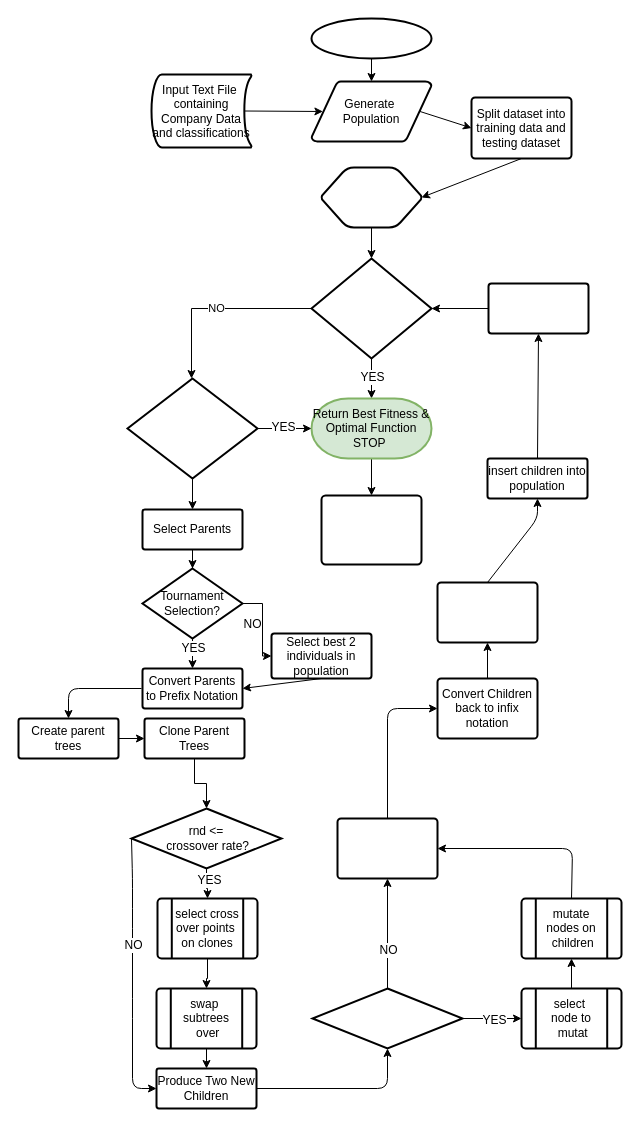
This 639x1126 diagram has some shape labels left out. Here are the shapes that lost their labels. From the top down, the box of each, then its label:
(310, 17, 432, 59): Start
(320, 166, 422, 228): Get Fitness of Total Population
(310, 257, 432, 359): Best Individual Meet Termination Criteria?
(487, 282, 589, 334): remove two worst solutions in population
(126, 377, 258, 479): Max iteration termination met?
(320, 494, 422, 565): Test optimal function with testing data to check classifier prediction
(436, 581, 538, 643): Get fitness of children
(336, 817, 438, 879): Deconstruct Children into prefix notation
(311, 987, 463, 1049): rnd <= mutation rate?
